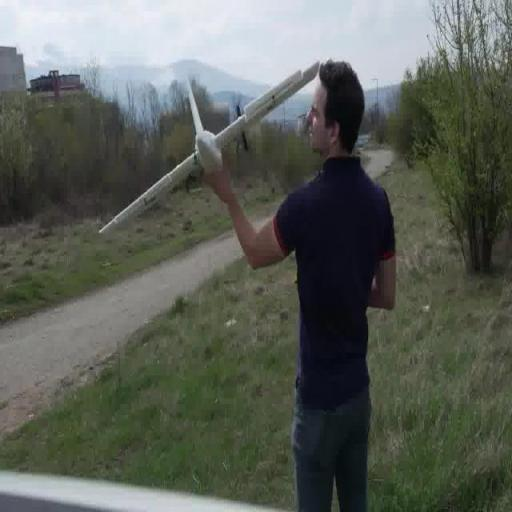uav: (93, 32, 321, 250)
